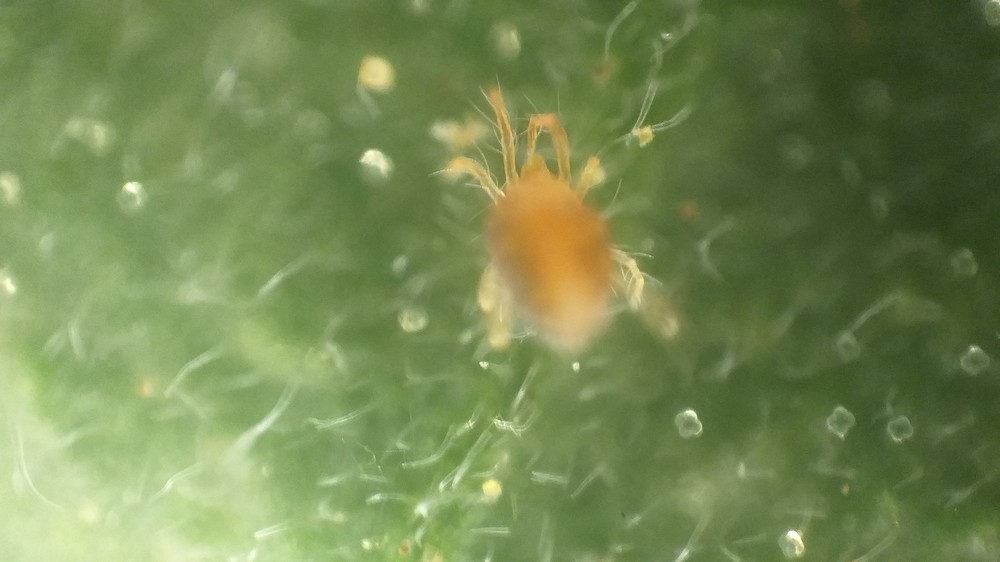Aracnido Rojo: (426, 86, 684, 374)
